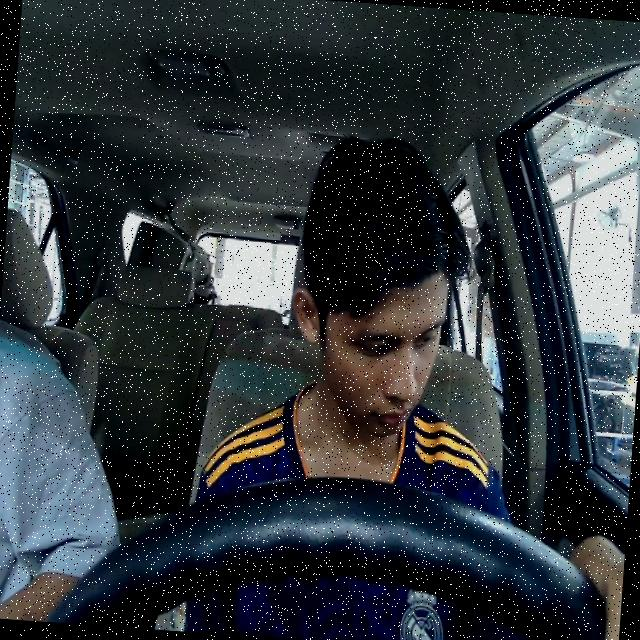seeing_right: (280, 257, 450, 443)
